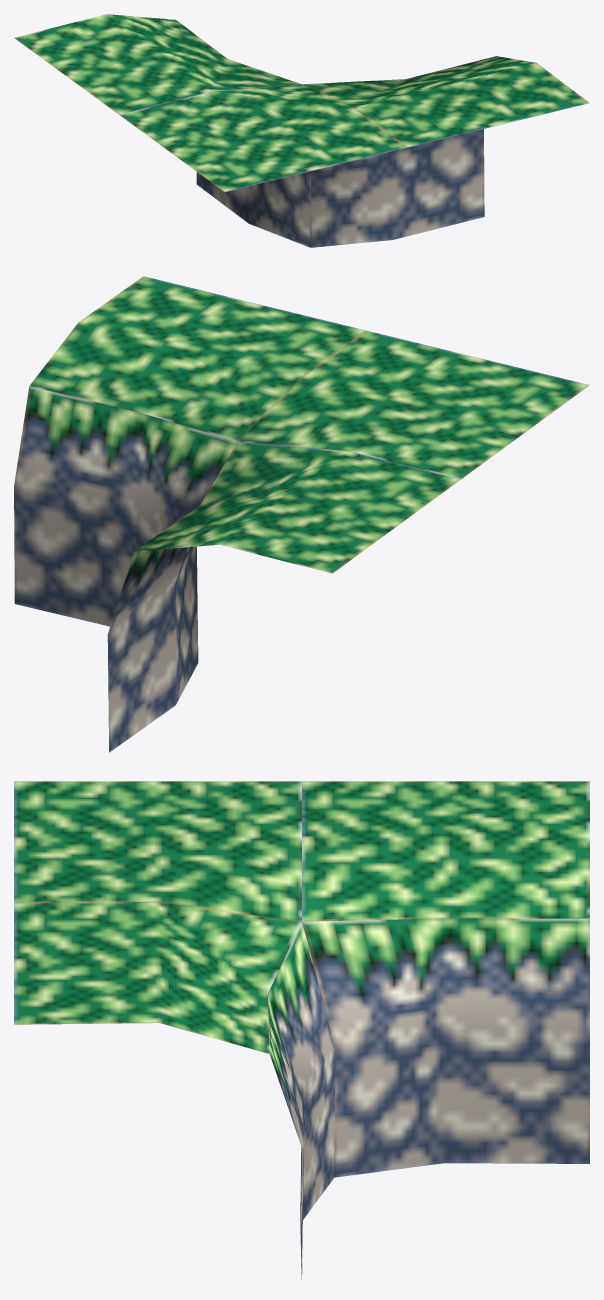
The model's file is grassCTile_innerCorner_lowerLeft.fbx.
3 renders of one model, top to bottom at view 1: azimuth 30°, elevation 25°; view 2: azimuth 150°, elevation 25°; view 3: azimuth 270°, elevation 25°, orthographic. The views are drawn at different scales.
Parts seen in each view (by area): view 1: grassCTile_innerCorner_lowerLeft; view 2: grassCTile_innerCorner_lowerLeft; view 3: grassCTile_innerCorner_lowerLeft.
Part boxes in pixels (<box>): grassCTile_innerCorner_lowerLeft: <box>14,14,589,247</box>; grassCTile_innerCorner_lowerLeft: <box>14,276,589,752</box>; grassCTile_innerCorner_lowerLeft: <box>14,781,589,1279</box>.
Size of the model in its own units: 2 by 1.01 by 2.
